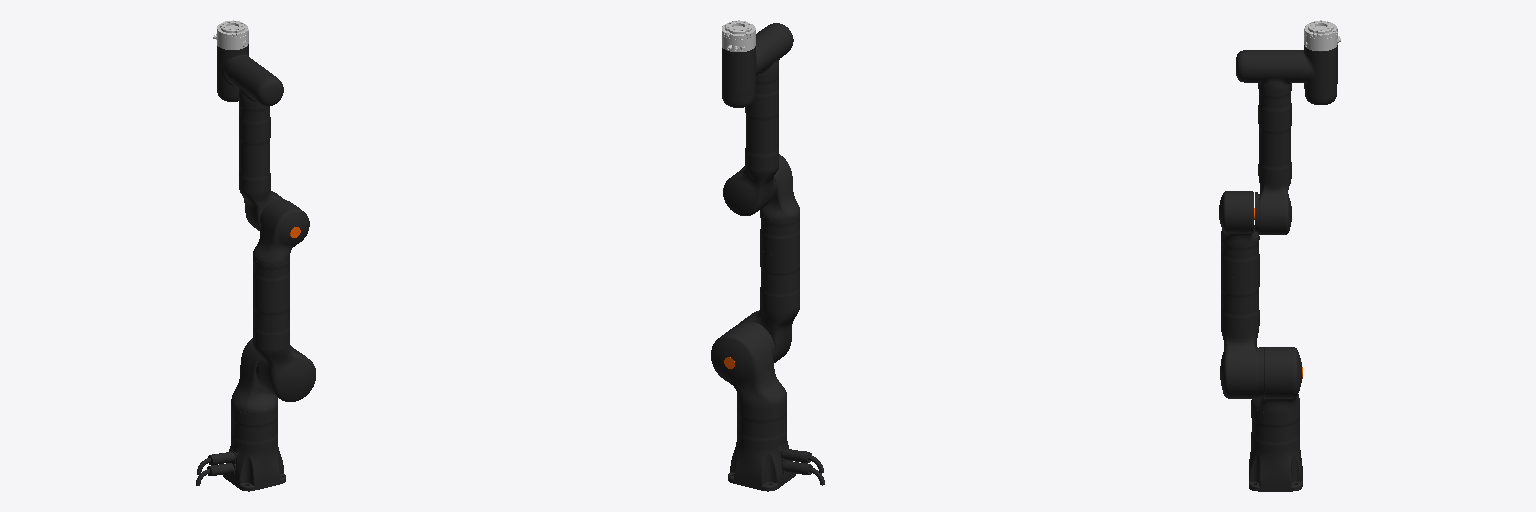
robot.urdf — kr2_robot_a810:
<?xml version="1.0" ?>
<!-- =================================================================================== -->
<!-- |    This document was autogenerated by xacro from kr2_robot_a810_tio.xacro       | -->
<!-- |    EDITING THIS FILE BY HAND IS NOT RECOMMENDED                                 | -->
<!-- =================================================================================== -->
<robot features="TIO" mechanical-revision="5" model="a810" model-revision="051020-0" name="kr2_robot_a810">
  <!-- materials -->
  <material name="gray">
    <color rgba="0.5 0.5 0.5 1.0"/>
  </material>
  <material name="dark_gray">
    <color rgba="0.3 0.3 0.3 1.0"/>
  </material>
  <material name="light_gray">
    <color rgba="0.7 0.7 0.7 1.0"/>
  </material>
  <material name="black">
    <color rgba="0.1 0.1 0.1 1.0"/>
  </material>
  <material name="orange">
    <color rgba="1.0 0.4235294117647059 0.0392156862745098 1.0"/>
  </material>
  <!-- links -->
  <link name="base">
    <!--
    <xacro:visual_and_collision rpy="0 0 0"
                                xyz="0 0 ${base_outer_height / 2}"
                                material="dark_gray">
      <cylinder length="${base_outer_height}" radius="${base_outer_radius}"/>
    </xacro:visual_and_collision>

    <xacro:visual_and_collision rpy="0 0 0"
                                xyz="0 0 ${base_outer_height + base_inner_height/2}"
                                material="dark_gray">
      <cylinder length="${base_inner_height}" radius="${base_inner_radius}"/>
    </xacro:visual_and_collision>
    -->
    <inertial>
      <origin rpy="0 0 0" xyz="0 0 0"/>
      <mass value="0.6"/>
      <!--      <inertia ixx="${mass/12*(3*radius*radius+3*length*length)}"
               ixy="0.0"
               ixz="0.0"
               iyy="${mass/12*(3*radius*radius+3*length*length)}"
               iyz="0.0"
               izz="${mass*radius*radius/2}"/>
       -->
      <inertia ixx="0.003" ixy="0.0" ixz="0.0" iyy="0.003" iyz="0.0" izz="0.003"/>
    </inertial>
    <visual>
      <origin rpy="0 0 0" xyz="0 0 0"/>
      <geometry>
        <mesh filename="package://kr_rviz_demo/meshes/a810/a810_Base.stl" scale="0.001 0.001 0.001"/>
      </geometry>
      <material name="">
        <color rgba="0.2 0.2 0.2 1"/>
      </material>
    </visual>
  </link>
  <link name="link1">
    <!--
    <xacro:visual_and_collision rpy="0 0 0"
                                xyz="0 0 ${link1_length/2 - 25 * scale}"
                                material="gray">
      <cylinder length="${link1_length - 50 * scale}" radius="${link1_radius}"/>
    </xacro:visual_and_collision>

    <xacro:visual_and_collision rpy="${pi/2} 0 0"
                                xyz="${50 * scale} ${20 * scale} ${link1_length}"
                                material="gray">
      <cylinder length="${link1_radius * 1.7}" radius="${link1_radius}"/>
    </xacro:visual_and_collision>
    
    <xacro:visual_and_collision rpy="0 ${pi/4} 0"
                                xyz="${20 * scale} ${+8 * scale} ${200 * scale}"
                                material="light_gray">
      <cylinder length="${90 * scale}" radius="${50 * scale}"/>
    </xacro:visual_and_collision>
    -->
    <inertial>
      <origin rpy="0 0 0" xyz="0 0 0.13684999999999997"/>
      <mass value="4.58"/>
      <!--      <inertia ixx="${mass/12*(3*radius*radius+3*length*length)}"
               ixy="0.0"
               ixz="0.0"
               iyy="${mass/12*(3*radius*radius+3*length*length)}"
               iyz="0.0"
               izz="${mass*radius*radius/2}"/>
       -->
      <inertia ixx="0.003" ixy="0.0" ixz="0.0" iyy="0.003" iyz="0.0" izz="0.003"/>
    </inertial>
    <visual>
      <origin rpy="0 0 0" xyz="0 0 0.169"/>
      <geometry>
        <mesh filename="package://kr_rviz_demo/meshes/a810/a810_Link2.stl" scale="0.001 0.001 0.001"/>
      </geometry>
      <material name="">
        <color rgba="0.2 0.2 0.2 1"/>
      </material>
    </visual>
  </link>
  <link name="linkJ2">
    <visual>
      <origin rpy="1.570796326795 0 0" xyz="0 -0.01 0"/>
      <geometry>
        <cylinder length="0.15" radius="0.015"/>
      </geometry>
      <material name="orange"/>
    </visual>
    <collision>
      <origin rpy="1.570796326795 0 0" xyz="0 -0.01 0"/>
      <geometry>
        <cylinder length="0.15" radius="0.015"/>
      </geometry>
    </collision>
    <inertial>
      <origin rpy="0 0 0" xyz="0 0 0"/>
      <mass value="6.1"/>
      <!--      <inertia ixx="${mass/12*(3*radius*radius+3*length*length)}"
               ixy="0.0"
               ixz="0.0"
               iyy="${mass/12*(3*radius*radius+3*length*length)}"
               iyz="0.0"
               izz="${mass*radius*radius/2}"/>
       -->
      <inertia ixx="0.003" ixy="0.0" ixz="0.0" iyy="0.003" iyz="0.0" izz="0.003"/>
    </inertial>
  </link>
  <link name="link2">
    <inertial>
      <origin rpy="0 0 0" xyz="0 0 0.17500000000000002"/>
      <mass value="0.43"/>
      <!--      <inertia ixx="${mass/12*(3*radius*radius+3*length*length)}"
               ixy="0.0"
               ixz="0.0"
               iyy="${mass/12*(3*radius*radius+3*length*length)}"
               iyz="0.0"
               izz="${mass*radius*radius/2}"/>
       -->
      <inertia ixx="0.003" ixy="0.0" ixz="0.0" iyy="0.003" iyz="0.0" izz="0.003"/>
    </inertial>
    <visual>
      <origin rpy="-1.570796326795 0 -1.570796326795" xyz="0.049 0 0"/>
      <geometry>
        <mesh filename="package://kr_rviz_demo/meshes/a810/a810_Link3.stl" scale="0.001 0.001 0.001"/>
      </geometry>
      <material name="">
        <color rgba="0.2 0.2 0.2 1"/>
      </material>
    </visual>
  </link>
  <link name="link3">
    <inertial>
      <origin rpy="0 0 0" xyz="0 0 0"/>
      <mass value="2.9"/>
      <!--      <inertia ixx="${mass/12*(3*radius*radius+3*length*length)}"
               ixy="0.0"
               ixz="0.0"
               iyy="${mass/12*(3*radius*radius+3*length*length)}"
               iyz="0.0"
               izz="${mass*radius*radius/2}"/>
       -->
      <inertia ixx="0.003" ixy="0.0" ixz="0.0" iyy="0.003" iyz="0.0" izz="0.003"/>
    </inertial>
    <visual>
      <origin rpy="1.570796326795 0 -1.570796326795" xyz="-0.05 -0.0 0.315"/>
      <geometry>
        <mesh filename="package://kr_rviz_demo/meshes/a810/a810_Link4.stl" scale="0.001 0.001 0.001"/>
      </geometry>
      <material name="">
        <color rgba="0.2 0.2 0.2 1"/>
      </material>
    </visual>
  </link>
  <link name="linkJ4">
    <visual>
      <origin rpy="1.570796326795 0 0" xyz="0 0.013000000000000001 0"/>
      <geometry>
        <cylinder length="0.129" radius="0.015"/>
      </geometry>
      <material name="orange"/>
    </visual>
    <collision>
      <origin rpy="1.570796326795 0 0" xyz="0 0.013000000000000001 0"/>
      <geometry>
        <cylinder length="0.129" radius="0.015"/>
      </geometry>
    </collision>
    <inertial>
      <origin rpy="0 0 0" xyz="0 0.006500000000000001 0"/>
      <mass value="3.8"/>
      <!--      <inertia ixx="${mass/12*(3*radius*radius+3*length*length)}"
               ixy="0.0"
               ixz="0.0"
               iyy="${mass/12*(3*radius*radius+3*length*length)}"
               iyz="0.0"
               izz="${mass*radius*radius/2}"/>
       -->
      <inertia ixx="0.003" ixy="0.0" ixz="0.0" iyy="0.003" iyz="0.0" izz="0.003"/>
    </inertial>
  </link>
  <link name="link4">
    <inertial>
      <origin rpy="0 0 0" xyz="0 0 0.168"/>
      <mass value="0.33"/>
      <!--      <inertia ixx="${mass/12*(3*radius*radius+3*length*length)}"
               ixy="0.0"
               ixz="0.0"
               iyy="${mass/12*(3*radius*radius+3*length*length)}"
               iyz="0.0"
               izz="${mass*radius*radius/2}"/>
       -->
      <inertia ixx="0.003" ixy="0.0" ixz="0.0" iyy="0.003" iyz="0.0" izz="0.003"/>
    </inertial>
    <visual>
      <origin rpy="-1.570796326795 0 1.570796326795" xyz="0.04 0.0005 0.0"/>
      <geometry>
        <mesh filename="package://kr_rviz_demo/meshes/a810/a810_Link5.stl" scale="0.001 0.001 0.001"/>
      </geometry>
      <material name="">
        <color rgba="0.2 0.2 0.2 1"/>
      </material>
    </visual>
  </link>
  <link name="link5">
    <inertial>
      <origin rpy="0 0 0" xyz="0 0 0"/>
      <mass value="1.7"/>
      <!--      <inertia ixx="${mass/12*(3*radius*radius+3*length*length)}"
               ixy="0.0"
               ixz="0.0"
               iyy="${mass/12*(3*radius*radius+3*length*length)}"
               iyz="0.0"
               izz="${mass*radius*radius/2}"/>
       -->
      <inertia ixx="0.003" ixy="0.0" ixz="0.0" iyy="0.003" iyz="0.0" izz="0.003"/>
    </inertial>
    <visual>
      <origin rpy="0 0 -1.570796326795" xyz="0.0 0.002 0.1035"/>
      <geometry>
        <mesh filename="package://kr_rviz_demo/meshes/a810/a810_Link6.stl" scale="0.001 0.001 0.001"/>
      </geometry>
      <material name="">
        <color rgba="0.2 0.2 0.2 1"/>
      </material>
    </visual>
  </link>
  <link name="linkJ6">
    <!--
    <xacro:visual_and_collision rpy="${pi/2} 0 0" 
                                xyz="0 ${10 * scale} 0"
                                material="orange">
      <cylinder length="${cylinderJ6_height * 1.9}" radius="${cylinderJ6_radius}"/>
    </xacro:visual_and_collision>
    -->
    <inertial>
      <origin rpy="0 0 0" xyz="0 0.004 0"/>
      <mass value="1.8"/>
      <!--      <inertia ixx="${mass/12*(3*radius*radius+3*length*length)}"
               ixy="0.0"
               ixz="0.0"
               iyy="${mass/12*(3*radius*radius+3*length*length)}"
               iyz="0.0"
               izz="${mass*radius*radius/2}"/>
       -->
      <inertia ixx="0.003" ixy="0.0" ixz="0.0" iyy="0.003" iyz="0.0" izz="0.003"/>
    </inertial>
  </link>
  <link name="link6">
    <inertial>
      <origin rpy="0 0 0" xyz="0 0 0.004"/>
      <mass value="1.8"/>
      <!--      <inertia ixx="${mass/12*(3*radius*radius+3*length*length)}"
               ixy="0.0"
               ixz="0.0"
               iyy="${mass/12*(3*radius*radius+3*length*length)}"
               iyz="0.0"
               izz="${mass*radius*radius/2}"/>
       -->
      <inertia ixx="0.003" ixy="0.0" ixz="0.0" iyy="0.003" iyz="0.0" izz="0.003"/>
    </inertial>
    <visual>
      <origin rpy="0 0 0" xyz="0.0 0.0 0.0"/>
      <geometry>
        <mesh filename="package://kr_rviz_demo/meshes/a810/a810_Link7.stl" scale="0.001 0.001 0.001"/>
      </geometry>
      <material name="">
        <color rgba="0.2 0.2 0.2 1"/>
      </material>
    </visual>
  </link>
  <link name="end_effector">
    <visual>
      <origin rpy="0 0 0" xyz="0.0 -0.0 0.0"/>
      <geometry>
        <mesh filename="package://kr_rviz_demo/meshes/a810/a810_ToolIO.stl" scale="0.001 0.001 0.001"/>
      </geometry>
      <material name="">
        <color rgba="0.8 0.8 0.8 1"/>
      </material>
    </visual>
    <inertial>
      <origin rpy="0 0 0" xyz="0 0 -0.0197"/>
      <mass value="0.56"/>
      <!--      <inertia ixx="${mass/12*(3*radius*radius+3*length*length)}"
               ixy="0.0"
               ixz="0.0"
               iyy="${mass/12*(3*radius*radius+3*length*length)}"
               iyz="0.0"
               izz="${mass*radius*radius/2}"/>
       -->
      <inertia ixx="0.003" ixy="0.0" ixz="0.0" iyy="0.003" iyz="0.0" izz="0.003"/>
    </inertial>
  </link>
  <!-- joints -->
  <joint name="joint0" type="continuous">
    <parent link="base"/>
    <child link="link1"/>
    <origin rpy="0 0 0" xyz="0 0 0.035"/>
    <axis xyz="0 0 1"/>
    <dynamics damping="0.1"/>
    <limit effort="204" lower="-6.28318530718" upper="6.28318530718" velocity="3.9269908169875"/>
    <!-- <limit effort="204" velocity="${225/180*pi}" lower="${-122.6 * pi_per_deg}" upper="${127.6 * pi_per_deg}"/> -->
  </joint>
  <joint name="joint1" type="continuous">
    <parent link="link1"/>
    <child link="linkJ2"/>
    <origin rpy="0 0 0" xyz="0.05 0.0 0.27369999999999994"/>
    <axis xyz="0 1 0"/>
    <dynamics damping="0.1"/>
    <limit effort="204" lower="-1.221730476396111" upper="3.14159265359" velocity="3.9269908169875"/>
    <!-- <limit effort="204" velocity="${225/180*pi}" lower="${-31.9 * pi_per_deg}" upper="${168.5 * pi_per_deg}"/> -->
  </joint>
  <joint name="jointPL2" type="fixed">
    <parent link="linkJ2"/>
    <child link="link2"/>
    <origin rpy="0 0 0" xyz="-0.05 -0.0857 0"/>
  </joint>
  <joint name="joint2" type="continuous">
    <parent link="link2"/>
    <child link="link3"/>
    <origin rpy="0 0 0" xyz="0 0 0.274"/>
    <axis xyz="0 0 1"/>
    <dynamics damping="0.1"/>
    <limit effort="85" lower="-6.28318530718" upper="6.28318530718" velocity="3.9269908169875"/>
    <!--  <limit effort="85" velocity="${225/180*pi}" lower="${-177.6 * pi_per_deg}" upper="${177.6 * pi_per_deg}"/> -->
  </joint>
  <joint name="joint3" type="continuous">
    <parent link="link3"/>
    <child link="linkJ4"/>
    <origin rpy="0 0 0" xyz="0.04 0.0 0.1429"/>
    <axis xyz="0 1 0"/>
    <dynamics damping="0.1"/>
    <limit effort="85" lower="-1.221730476396111" upper="3.14159265359" velocity="3.9269908169875"/>
    <!-- <limit effort="85" velocity="${225/180*pi}" lower="${-20.6 * pi_per_deg}" upper="${152.1 * pi_per_deg}"/> -->
  </joint>
  <joint name="jointPL4" type="fixed">
    <parent link="linkJ4"/>
    <child link="link4"/>
    <origin rpy="0 0 0" xyz="-0.04 0.08405 0.0"/>
  </joint>
  <joint name="joint4" type="continuous">
    <parent link="link4"/>
    <child link="link5"/>
    <origin rpy="0 0 0" xyz="0 0 0.271"/>
    <axis xyz="0 0 1"/>
    <dynamics damping="0.1"/>
    <limit effort="51" lower="-6.28318530718" upper="6.28318530718" velocity="3.9269908169875"/>
    <!-- <limit effort="51" velocity="${225/180*pi}" lower="${-177.6 * pi_per_deg}" upper="${177.6 * pi_per_deg}"/> -->
  </joint>
  <joint name="joint5" type="continuous">
    <parent link="link5"/>
    <child link="linkJ6"/>
    <origin rpy="0 0 0" xyz="0 0 0.10350000000000001"/>
    <axis xyz="0 1 0"/>
    <dynamics damping="0.1"/>
    <limit effort="51" lower="-6.28318530718" upper="6.28318530718" velocity="3.9269908169875"/>
    <!--    <limit effort="51" velocity="${225/180*pi}" lower="${-177.6 * pi_per_deg}" upper="${177.6 * pi_per_deg}"/> -->
  </joint>
  <joint name="jointPL6" type="fixed">
    <parent link="linkJ6"/>
    <child link="link6"/>
    <origin rpy="0 0 0" xyz="0 0.111 0"/>
  </joint>
  <joint name="joint6" type="continuous">
    <parent link="link6"/>
    <child link="end_effector"/>
    <origin rpy="0 0 0" xyz="0 0 0.108"/>
    <axis xyz="0 0 1"/>
    <dynamics damping="0.1"/>
    <limit effort="51" lower="-6.28318530718" upper="6.28318530718" velocity="3.9269908169875"/>
    <!-- <limit effort="51" velocity="${225/180*pi}" lower="${-177.6 * pi_per_deg}" upper="${177.6 * pi_per_deg}"/> -->
  </joint>
  <!-- gazebo -->
  <!-- Used for fixing robot to Gazebo 'base_link' -->
  <link name="world"/>
  <joint name="joint_world" type="fixed">
    <parent link="world"/>
    <child link="base"/>
  </joint>
  <gazebo>
    <plugin filename="libgazebo_ros_control.so" name="ros_control">
      <robotNamespace>/kr2_robot</robotNamespace>
    </plugin>
  </gazebo>
  <gazebo reference="base">
    <material>Gazebo/Black</material>
  </gazebo>
  <gazebo reference="link1">
    <material>Gazebo/Grey</material>
  </gazebo>
  <gazebo reference="link2">
    <material>Gazebo/White</material>
  </gazebo>
  <gazebo reference="link3">
    <material>Gazebo/Grey</material>
  </gazebo>
  <gazebo reference="link4">
    <material>Gazebo/White</material>
  </gazebo>
  <gazebo reference="link5">
    <material>Gazebo/Grey</material>
  </gazebo>
  <gazebo reference="link6">
    <material>Gazebo/White</material>
  </gazebo>
  <gazebo reference="end_effector">
    <material>Gazebo/Black</material>
  </gazebo>
  <!-- Transmission mappings -->
  <transmission name="tran0">
    <type>transmission_interface/SimpleTransmission</type>
    <joint name="joint0">
      <hardwareInterface>hardware_interface/EffortJointInterface</hardwareInterface>
    </joint>
    <actuator name="motor0">
      <hardwareInterface>hardware_interface/EffortJointInterface</hardwareInterface>
      <mechanicalReduction>1</mechanicalReduction>
    </actuator>
  </transmission>
  <transmission name="tran1">
    <type>transmission_interface/SimpleTransmission</type>
    <joint name="joint1">
      <hardwareInterface>hardware_interface/EffortJointInterface</hardwareInterface>
    </joint>
    <actuator name="motor1">
      <hardwareInterface>hardware_interface/EffortJointInterface</hardwareInterface>
      <mechanicalReduction>1</mechanicalReduction>
    </actuator>
  </transmission>
  <transmission name="tran2">
    <type>transmission_interface/SimpleTransmission</type>
    <joint name="joint2">
      <hardwareInterface>hardware_interface/EffortJointInterface</hardwareInterface>
    </joint>
    <actuator name="motor2">
      <hardwareInterface>hardware_interface/EffortJointInterface</hardwareInterface>
      <mechanicalReduction>1</mechanicalReduction>
    </actuator>
  </transmission>
  <transmission name="tran3">
    <type>transmission_interface/SimpleTransmission</type>
    <joint name="joint3">
      <hardwareInterface>hardware_interface/EffortJointInterface</hardwareInterface>
    </joint>
    <actuator name="motor3">
      <hardwareInterface>hardware_interface/EffortJointInterface</hardwareInterface>
      <mechanicalReduction>1</mechanicalReduction>
    </actuator>
  </transmission>
  <transmission name="tran4">
    <type>transmission_interface/SimpleTransmission</type>
    <joint name="joint4">
      <hardwareInterface>hardware_interface/EffortJointInterface</hardwareInterface>
    </joint>
    <actuator name="motor4">
      <hardwareInterface>hardware_interface/EffortJointInterface</hardwareInterface>
      <mechanicalReduction>1</mechanicalReduction>
    </actuator>
  </transmission>
  <transmission name="tran5">
    <type>transmission_interface/SimpleTransmission</type>
    <joint name="joint5">
      <hardwareInterface>hardware_interface/EffortJointInterface</hardwareInterface>
    </joint>
    <actuator name="motor5">
      <hardwareInterface>hardware_interface/EffortJointInterface</hardwareInterface>
      <mechanicalReduction>1</mechanicalReduction>
    </actuator>
  </transmission>
  <transmission name="tran6">
    <type>transmission_interface/SimpleTransmission</type>
    <joint name="joint6">
      <hardwareInterface>hardware_interface/EffortJointInterface</hardwareInterface>
    </joint>
    <actuator name="motor6">
      <hardwareInterface>hardware_interface/EffortJointInterface</hardwareInterface>
      <mechanicalReduction>1</mechanicalReduction>
    </actuator>
  </transmission>
</robot>

--- What the picture shows (computed from the rendered views, not written in the file) ---
3 views of the same robot in one strip: view 1: azimuth 30°, elevation 25°; view 2: azimuth 150°, elevation 25°; view 3: azimuth 270°, elevation 25° (orthographic).
Robot: kr2_robot_a810 — 12 links, 11 joints (7 continuous, 4 fixed); root link world; default pose: every joint at zero.
Visible links, largest first — view 1: base, link2, link3, link4, link5, link1, link6, end_effector; view 2: base, link4, link1, link2, link3, link6, link5, end_effector; view 3: link4, link2, base, link3, link1, link5, link6, end_effector.
Link boxes in pixels (x1,y1,x2,y2): base: [196, 406, 285, 491]; link2: [253, 291, 315, 401]; link3: [253, 199, 309, 295]; link4: [239, 98, 282, 230]; link5: [228, 57, 283, 105]; link1: [231, 338, 291, 413]; link6: [217, 44, 248, 101]; end_effector: [213, 20, 248, 49]; base: [728, 401, 824, 491]; link4: [723, 71, 778, 215]; link1: [711, 322, 786, 408]; link2: [736, 248, 799, 362]; link3: [741, 154, 799, 254]; link6: [722, 46, 762, 107]; link5: [756, 23, 793, 74]; end_effector: [722, 20, 755, 51]; link4: [1258, 83, 1291, 234]; link2: [1220, 270, 1259, 398]; base: [1249, 405, 1302, 491]; link3: [1219, 191, 1259, 277]; link1: [1251, 347, 1301, 413]; link5: [1236, 50, 1301, 90]; link6: [1302, 45, 1337, 104]; end_effector: [1304, 20, 1340, 50].
Bounding box of the posed robot: 0.2819 × 0.2958 × 1.21 m (x, y, z).
8 mesh visuals loaded from 8 distinct referenced files (8 binary STL).